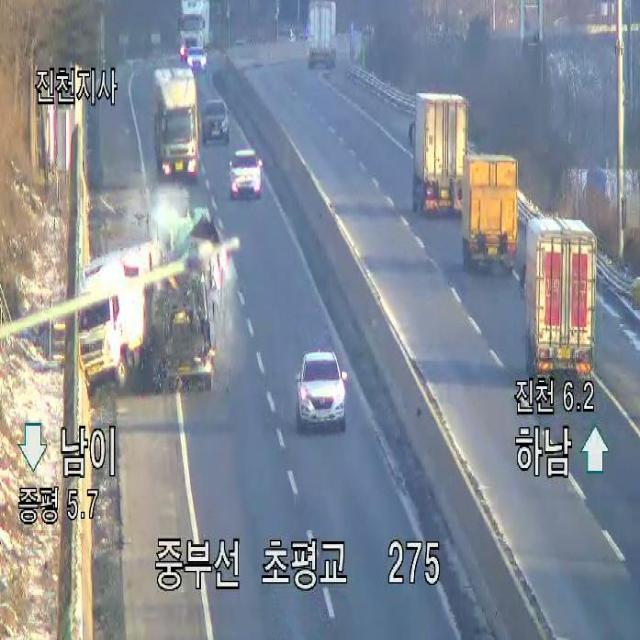car Accident: (67, 188, 256, 406)
